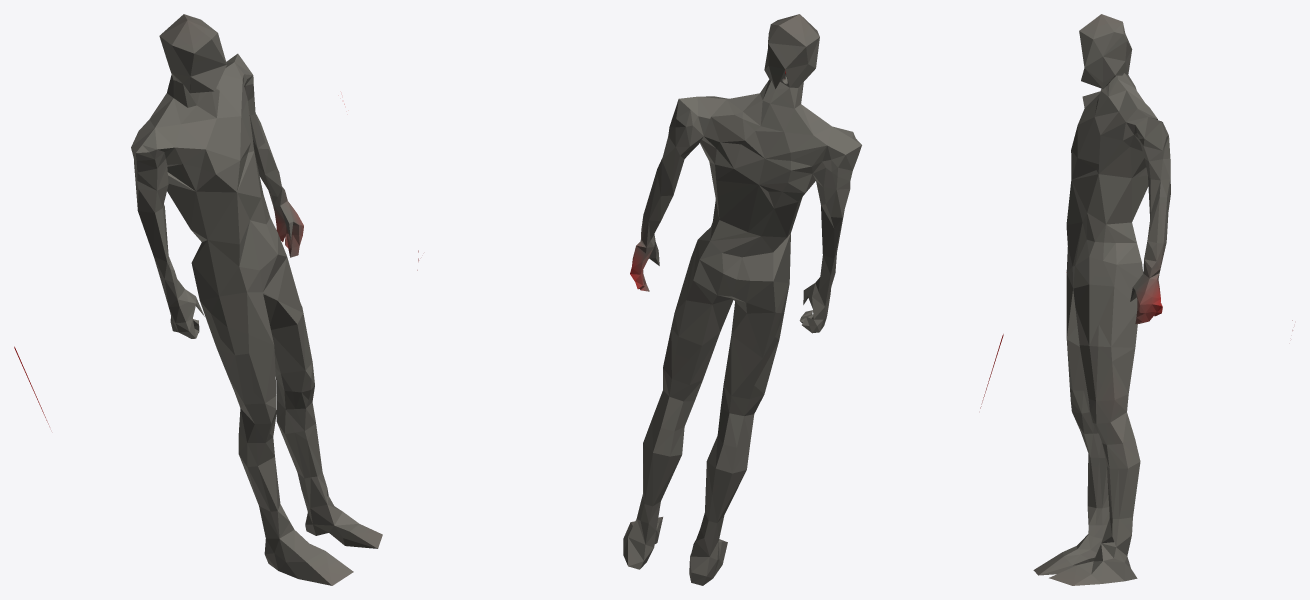
File: Color.glb
3 views of the same model, side by side, from view 1: azimuth 30°, elevation 25°; view 2: azimuth 150°, elevation 25°; view 3: azimuth 270°, elevation 25° (orthographic). The views are drawn at different scales.
Visible parts, largest first — view 1: __0; view 2: __0; view 3: __0.
Boxes of the visible parts, x1=… form: __0: x1=14, y1=14, x2=382, y2=585; __0: x1=417, y1=14, x2=1003, y2=585; __0: x1=1033, y1=14, x2=1292, y2=585.
Bounding box in the file's own units: 1.49 × 1.79 × 0.826.
